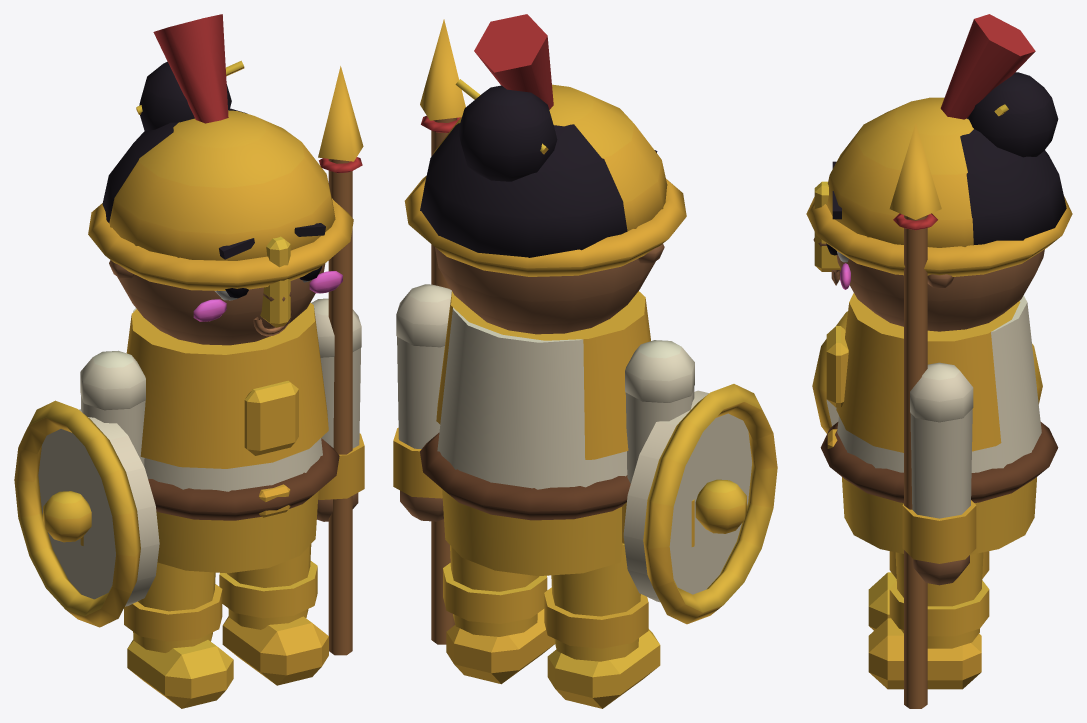
File: hero_ruth.glb
3 views of the same model, side by side, from view 1: azimuth 30°, elevation 25°; view 2: azimuth 150°, elevation 25°; view 3: azimuth 270°, elevation 25° (orthographic). The views are drawn at different scales.
Visible parts, largest first — view 1: body_t0_palette, arml_t0_palette, armr_t0_palette, legl_t0_palette, legr_t0_palette; view 2: body_t0_palette, arml_t0_palette, armr_t0_palette, legl_t0_palette, legr_t0_palette; view 3: body_t0_palette, armr_t0_palette, legr_t0_palette, arml_t0_palette, legl_t0_palette.
Part boxes in pixels (box(x1,y1,x2,y2)): body_t0_palette: box(88, 14, 353, 573); arml_t0_palette: box(14, 350, 159, 627); armr_t0_palette: box(311, 66, 364, 655); legl_t0_palette: box(124, 562, 233, 708); legr_t0_palette: box(219, 544, 328, 685); body_t0_palette: box(404, 14, 686, 576); arml_t0_palette: box(622, 340, 777, 624); armr_t0_palette: box(393, 19, 465, 644); legl_t0_palette: box(544, 544, 660, 708); legr_t0_palette: box(443, 545, 554, 684); body_t0_palette: box(806, 14, 1072, 554); armr_t0_palette: box(889, 123, 976, 708); legr_t0_palette: box(868, 552, 989, 689); arml_t0_palette: box(812, 311, 1042, 433); legl_t0_palette: box(868, 551, 989, 630).
Bounding box in the file's own units: 0.3099 × 0.5929 × 0.224.
